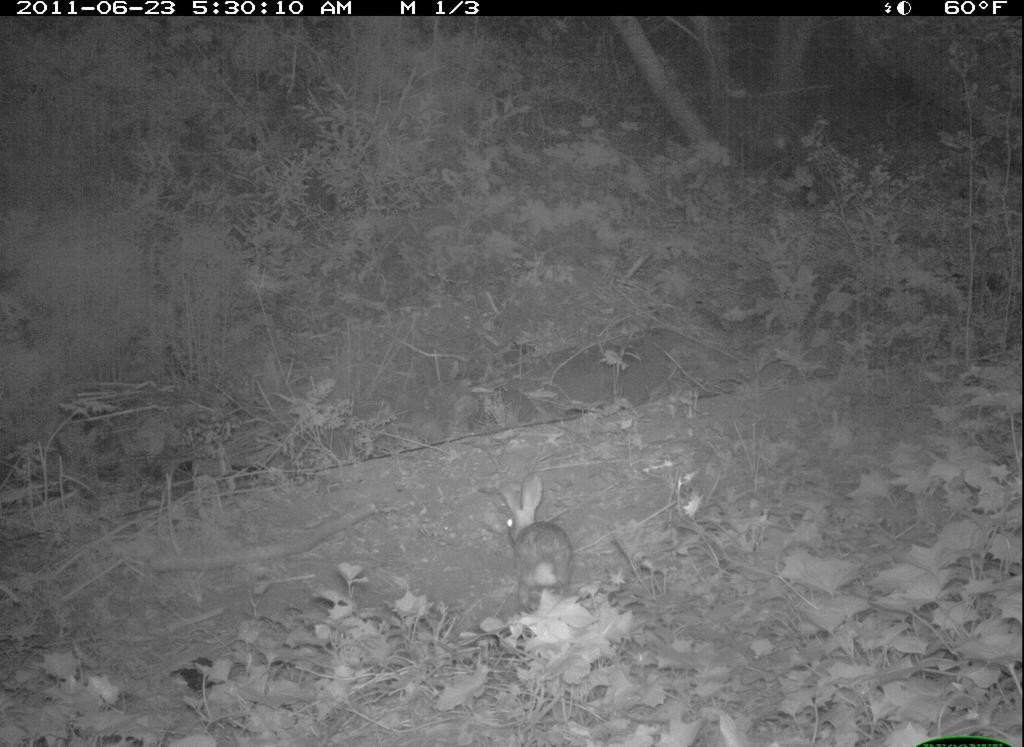rabbit: (491, 472, 579, 610)
